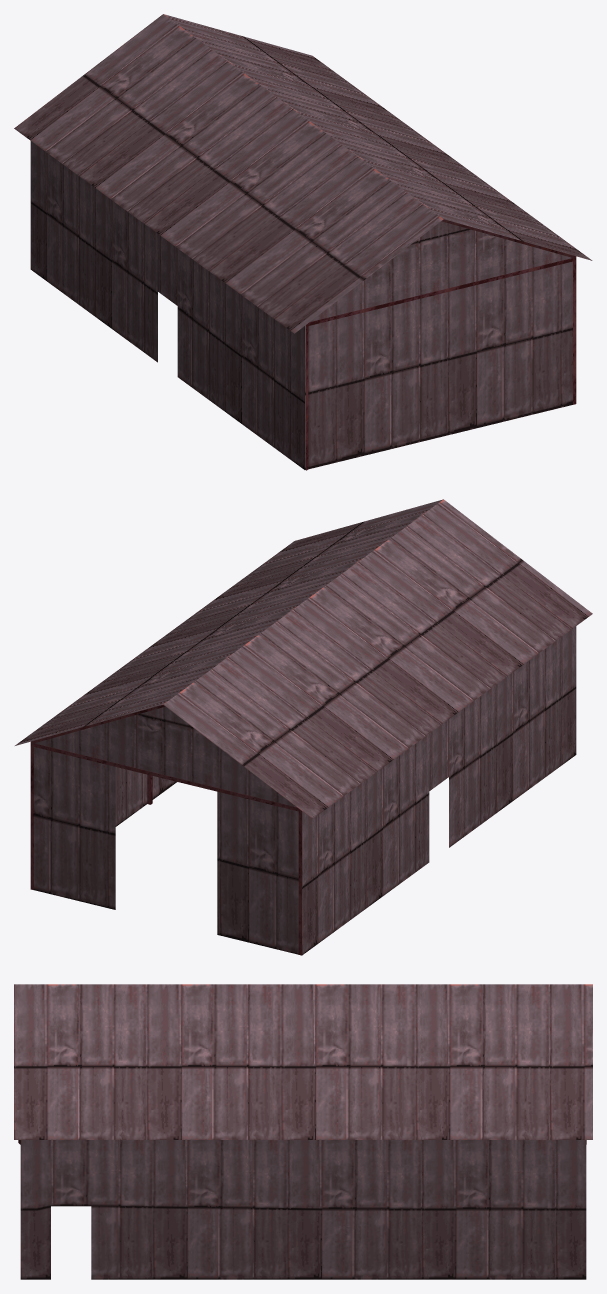
Rendered from shed.glb.
3 views of the same model, one above another, from view 1: azimuth 30°, elevation 25°; view 2: azimuth 150°, elevation 25°; view 3: azimuth 270°, elevation 25° (orthographic). The views are drawn at different scales.
Parts seen in each view (by area): view 1: Shed A, Shed A Frame; view 2: Shed A, Shed A Frame; view 3: Shed A.
Part boxes in pixels (x1,y1,x2,y2): Shed A: (14, 14, 592, 469); Shed A Frame: (306, 219, 576, 470); Shed A: (15, 499, 592, 955); Shed A Frame: (30, 705, 301, 955); Shed A: (14, 984, 592, 1279).
Size of the model in its own units: 8.8 by 6.2 by 14.32.
2 materials, 2 textured.
